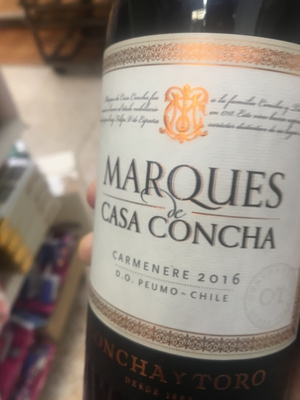marques de casa concha carmenere: (88, 8, 300, 385)
